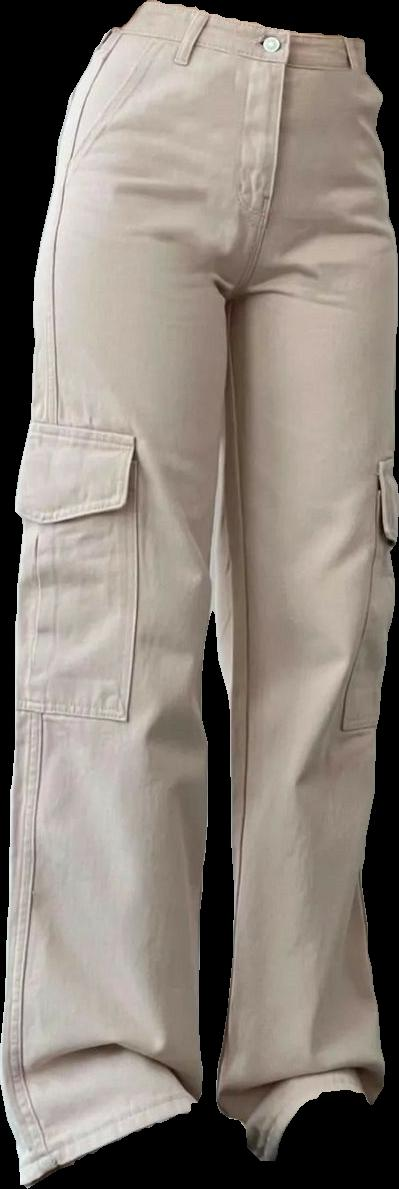Hemline: (18, 1099, 193, 1188), (260, 1081, 380, 1164)
Pantleg: (2, 2, 290, 1184), (207, 30, 398, 1159)
Waistline: (115, 28, 368, 77), (141, 0, 366, 51)
